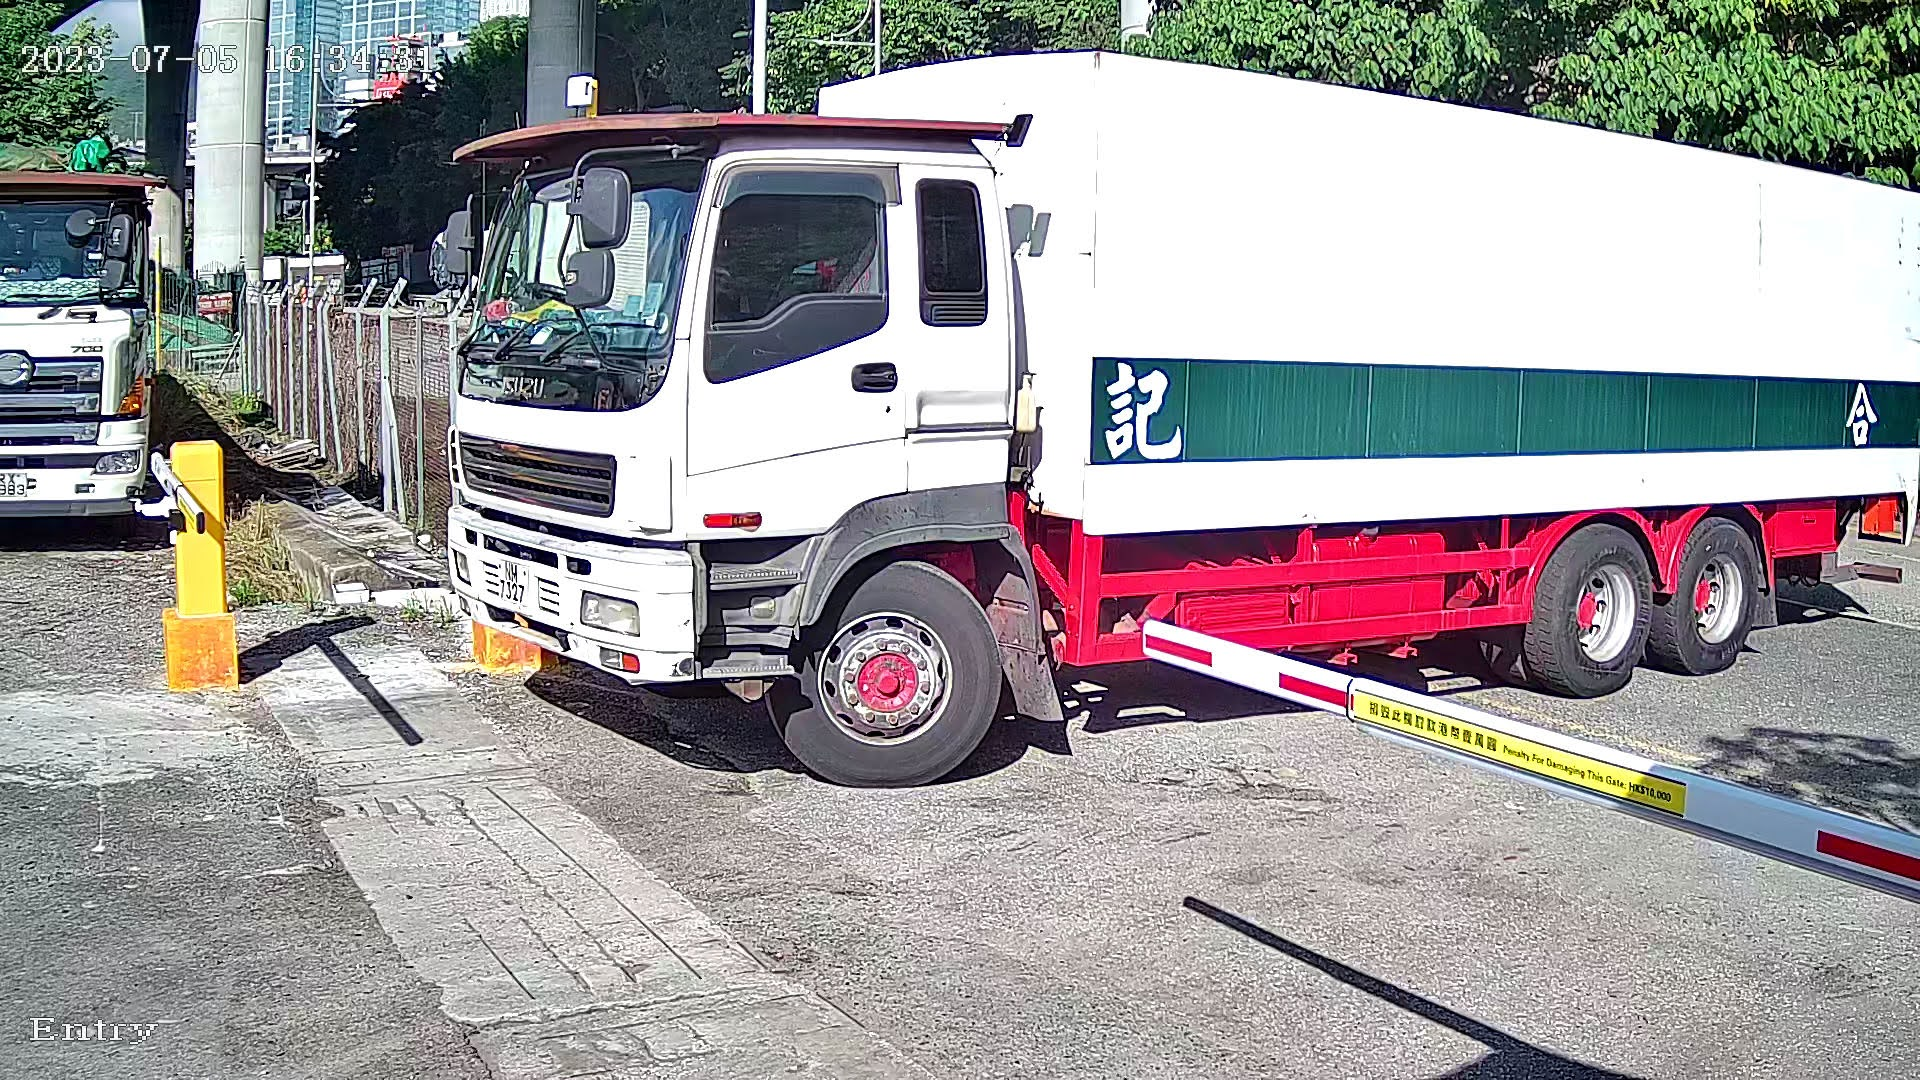truck_large: (404, 36, 1920, 804)
